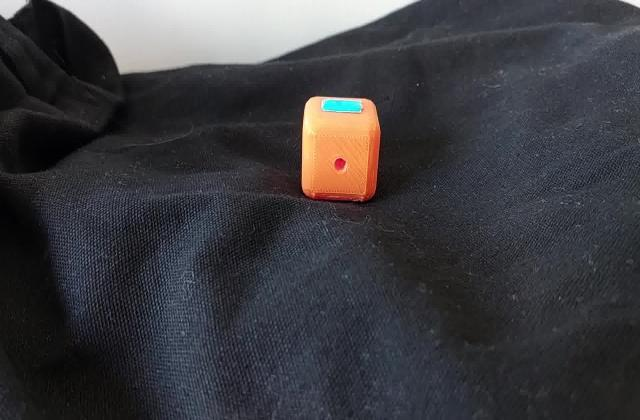blue: (331, 102, 358, 110)
cube: (298, 90, 382, 209)
